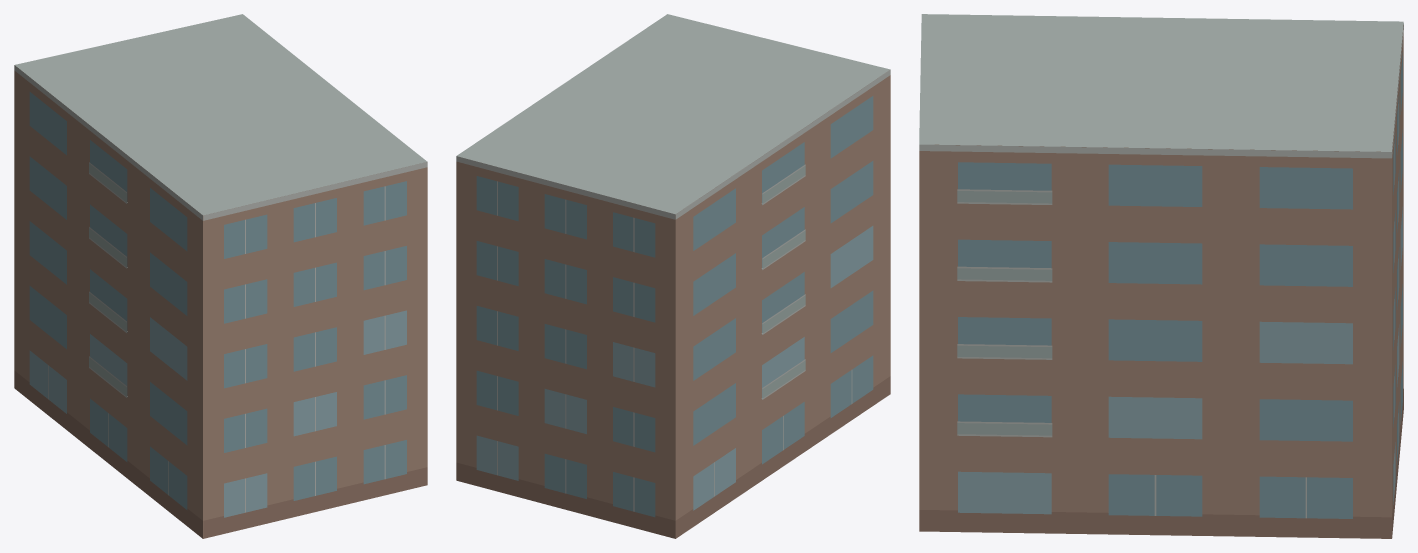
File: survey-upis-32735203.glb
3 renders of one model, left to right at view 1: azimuth 30°, elevation 25°; view 2: azimuth 150°, elevation 25°; view 3: azimuth 270°, elevation 25°, orthographic. The views are drawn at different scales.
Parts seen in each view (by area): view 1: survey-upis-32735203.tmp; view 2: survey-upis-32735203.tmp; view 3: survey-upis-32735203.tmp.
Part boxes in pixels (x1,y1,x2,y2): survey-upis-32735203.tmp: [14, 14, 427, 538]; survey-upis-32735203.tmp: [456, 14, 890, 538]; survey-upis-32735203.tmp: [919, 14, 1403, 538].
Size of the model in its own units: 11.1 by 14.5 by 16.47.
